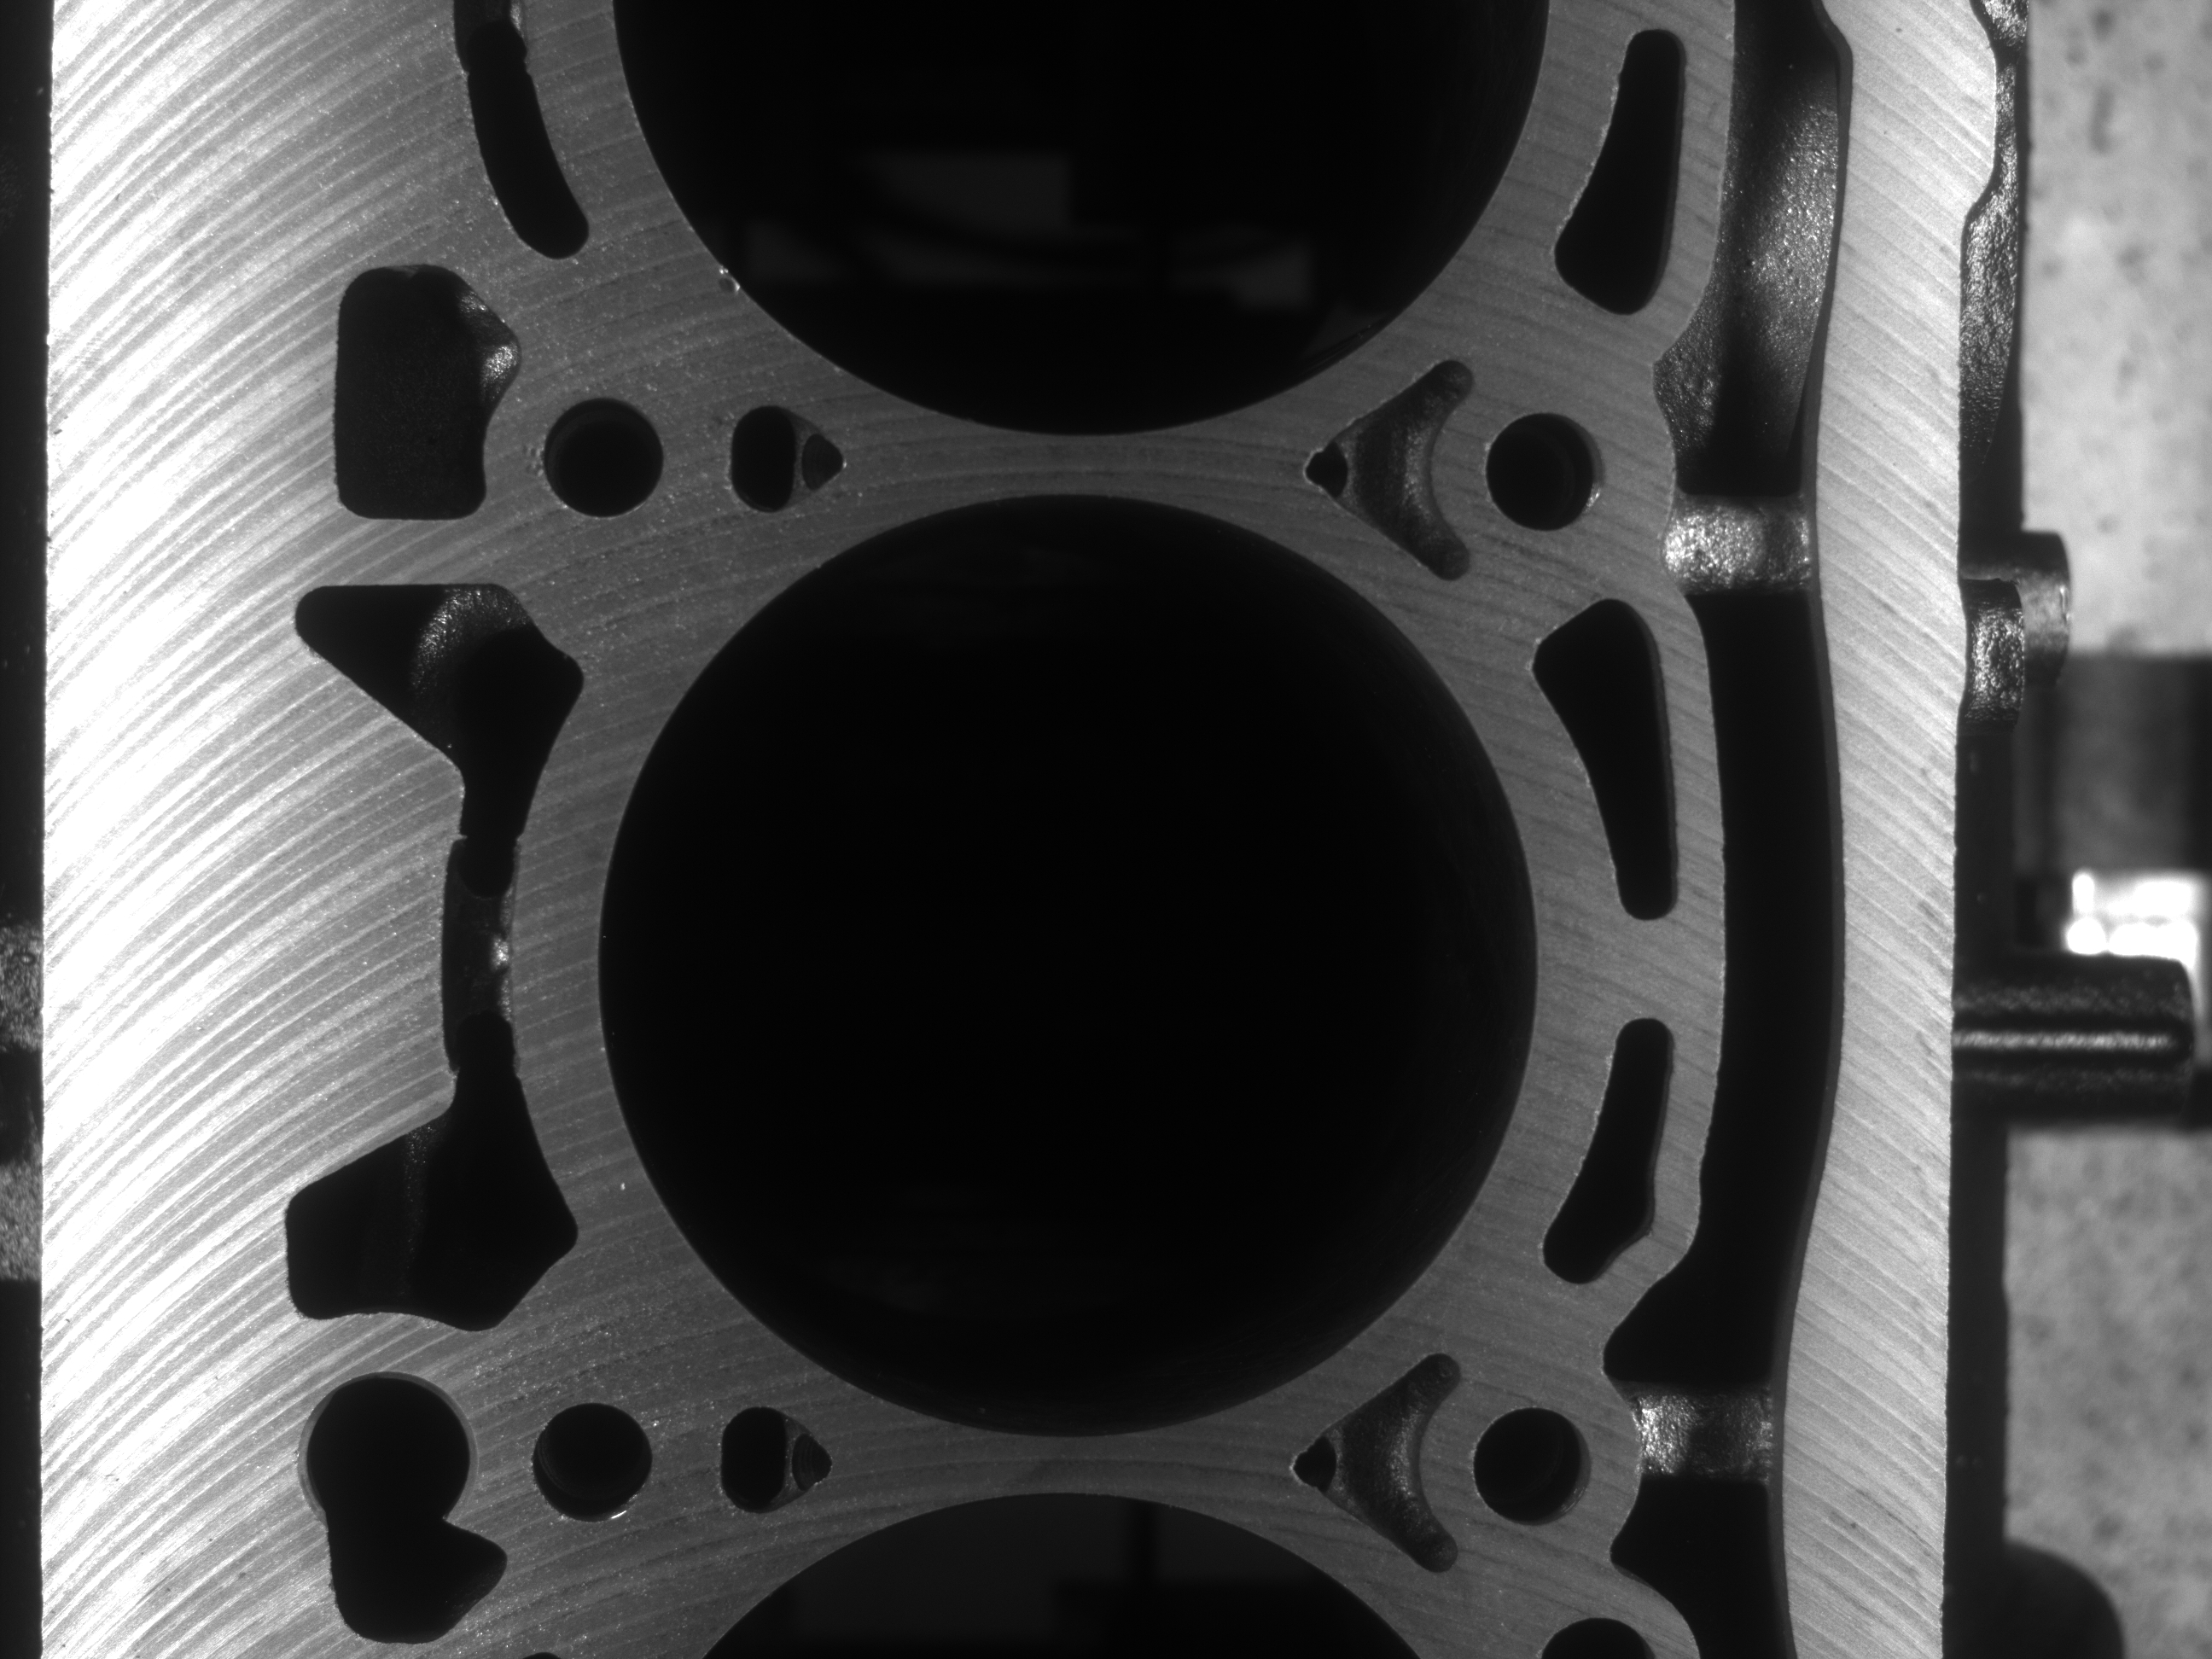shrinkage: (702, 261, 747, 296)
